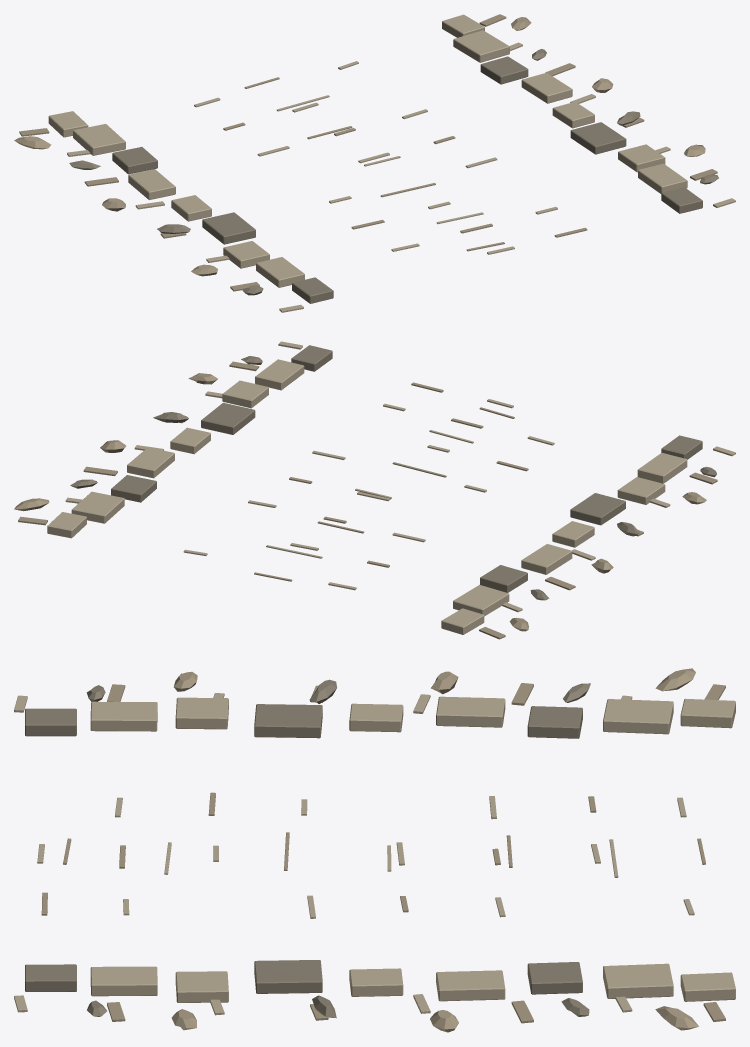
The model's file is forecourt-approach-edges.glb.
The picture shows the model from 3 angles, top to bottom: view 1: azimuth 30°, elevation 25°; view 2: azimuth 150°, elevation 25°; view 3: azimuth 270°, elevation 25°; orthographic projection. The views are drawn at different scales.
Visible parts, largest first — view 1: forecourt_approach_curb_r_7, forecourt_approach_curb_r_3, forecourt_approach_curb_l_3, forecourt_approach_curb_l_7, forecourt_approach_curb_r_5, forecourt_approach_curb_l_5, forecourt_approach_curb_l_1, forecourt_approach_curb_r_1, forecourt_approach_curb_r_6, forecourt_approach_curb_l_6, forecourt_approach_curb_l_2, forecourt_approach_curb_r_2 (+6 smaller); view 2: forecourt_approach_curb_l_3, forecourt_approach_curb_r_3, forecourt_approach_curb_l_7, forecourt_approach_curb_r_7, forecourt_approach_curb_l_5, forecourt_approach_curb_l_1, forecourt_approach_curb_r_1, forecourt_approach_curb_r_5, forecourt_approach_curb_l_2, forecourt_approach_curb_r_2, forecourt_approach_curb_l_6, forecourt_approach_curb_r_6 (+6 smaller); view 3: forecourt_approach_curb_l_7, forecourt_approach_curb_l_3, forecourt_approach_curb_r_3, forecourt_approach_curb_r_7, forecourt_approach_curb_r_5, forecourt_approach_curb_l_5, forecourt_approach_curb_l_1, forecourt_approach_curb_r_1, forecourt_approach_curb_l_6, forecourt_approach_curb_r_6, forecourt_approach_curb_l_2, forecourt_approach_curb_r_2 (+7 smaller).
Boxes of the visible parts, box(x1,y1,x2,y2) form: forecourt_approach_curb_r_7: box(453, 30, 509, 62); forecourt_approach_curb_r_3: box(570, 122, 626, 154); forecourt_approach_curb_l_3: box(202, 212, 255, 244); forecourt_approach_curb_l_7: box(73, 124, 125, 155); forecourt_approach_curb_r_5: box(521, 72, 572, 103); forecourt_approach_curb_l_5: box(128, 169, 175, 199); forecourt_approach_curb_l_1: box(256, 257, 304, 287); forecourt_approach_curb_r_1: box(638, 163, 687, 193); forecourt_approach_curb_r_6: box(480, 56, 528, 84); forecourt_approach_curb_l_6: box(112, 147, 157, 174); forecourt_approach_curb_l_2: box(223, 241, 269, 268); forecourt_approach_curb_r_2: box(618, 144, 665, 172); forecourt_approach_curb_l_3: box(570, 493, 625, 525); forecourt_approach_curb_r_3: box(201, 402, 255, 434); forecourt_approach_curb_l_7: box(453, 584, 509, 616); forecourt_approach_curb_r_7: box(71, 491, 124, 523); forecourt_approach_curb_l_5: box(521, 544, 572, 574); forecourt_approach_curb_l_1: box(637, 453, 687, 483); forecourt_approach_curb_r_1: box(255, 359, 304, 390); forecourt_approach_curb_r_5: box(127, 447, 174, 478); forecourt_approach_curb_l_2: box(617, 477, 665, 504); forecourt_approach_curb_r_2: box(222, 380, 268, 408); forecourt_approach_curb_l_6: box(480, 565, 527, 592); forecourt_approach_curb_r_6: box(111, 475, 156, 502); forecourt_approach_curb_l_7: box(603, 699, 673, 734); forecourt_approach_curb_l_3: box(254, 704, 322, 738); forecourt_approach_curb_r_3: box(254, 960, 322, 993); forecourt_approach_curb_r_7: box(603, 963, 673, 998); forecourt_approach_curb_r_5: box(436, 970, 505, 1001); forecourt_approach_curb_l_5: box(436, 696, 505, 727); forecourt_approach_curb_l_1: box(90, 701, 157, 731); forecourt_approach_curb_r_1: box(90, 966, 157, 996); forecourt_approach_curb_l_6: box(527, 706, 582, 738); forecourt_approach_curb_r_6: box(527, 962, 582, 994); forecourt_approach_curb_l_2: box(175, 697, 228, 729); forecourt_approach_curb_r_2: box(175, 971, 228, 1002).
Bounding box in the file's own units: 10.36 × 0.239 × 8.88.
